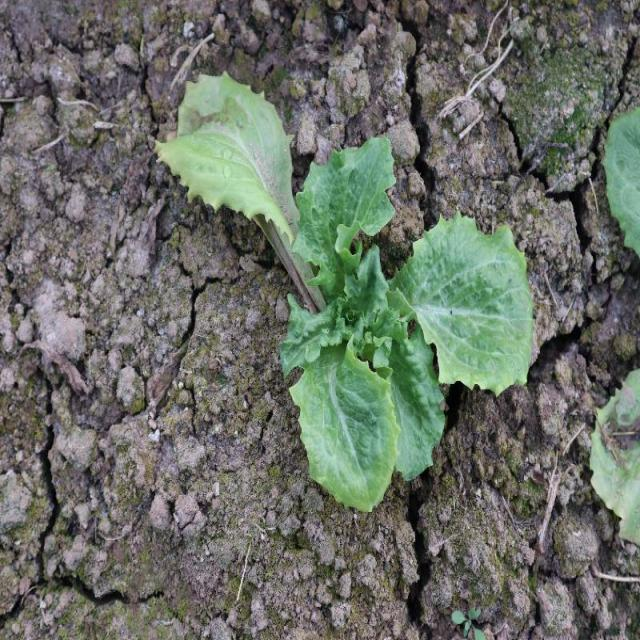crop: (154, 71, 537, 511)
